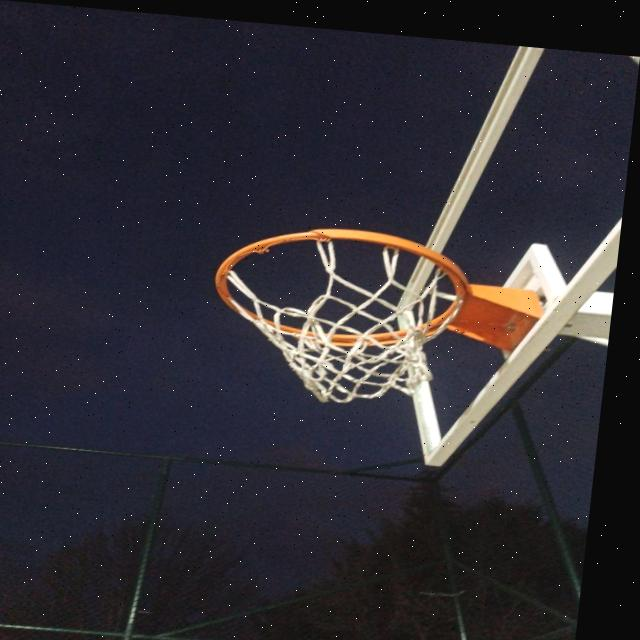hoop: (160, 219, 569, 439)
